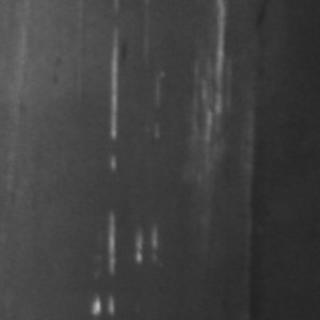scratches: (84, 205, 160, 315), (186, 0, 232, 136), (102, 24, 128, 170)
